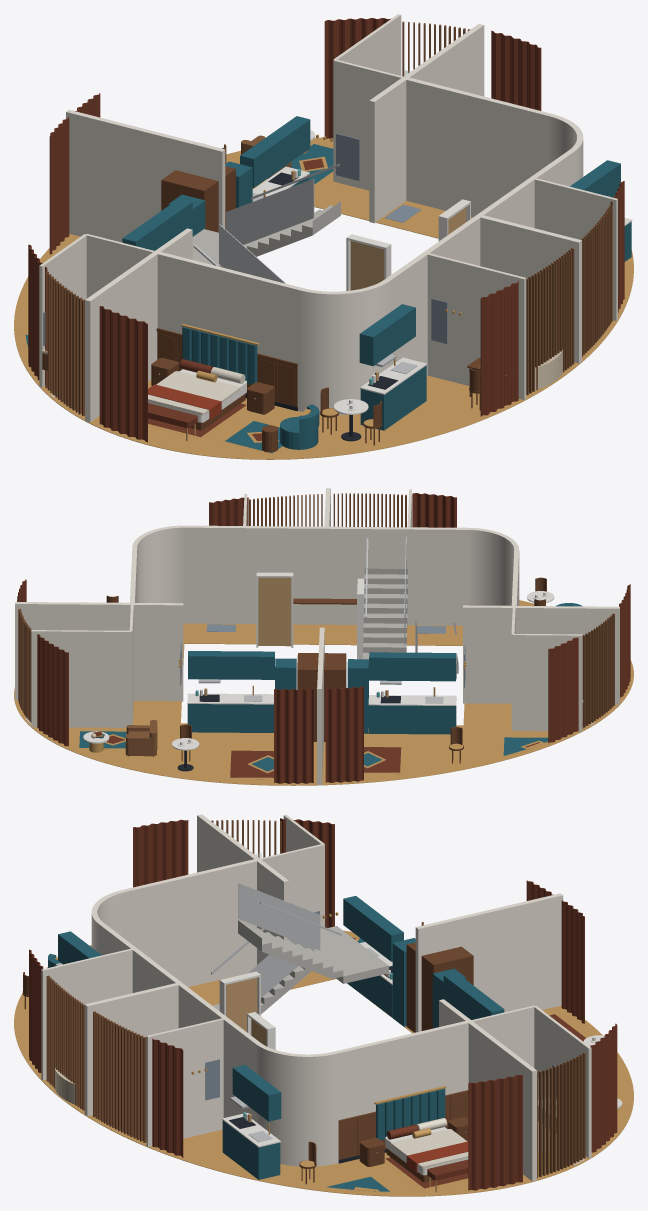
3 views of the same model, one above another, from view 1: azimuth 30°, elevation 25°; view 2: azimuth 150°, elevation 25°; view 3: azimuth 270°, elevation 25° (orthographic). The views are drawn at different scales.
Visible parts, largest first — view 1: Walls, Furniture, Generic models, Floors, Casework, Railings, Doors, Stairs, Specialty equipment, Plumbing fixtures; view 2: Walls, Furniture, Floors, Casework, Generic models, Stairs, Doors, Specialty equipment, Railings; view 3: Walls, Furniture, Generic models, Casework, Floors, Stairs, Railings, Doors, Specialty equipment, Plumbing fixtures.
Boxes of the visible parts, <box> form: Walls: <box>39,14,617,422</box>; Furniture: <box>22,18,624,454</box>; Generic models: <box>43,21,612,416</box>; Floors: <box>14,137,633,459</box>; Casework: <box>42,116,632,430</box>; Railings: <box>193,163,339,283</box>; Doors: <box>346,199,470,290</box>; Stairs: <box>192,201,340,267</box>; Specialty equipment: <box>168,161,252,236</box>; Plumbing fixtures: <box>41,190,562,390</box>; Walls: <box>15,488,619,784</box>; Furniture: <box>17,493,630,783</box>; Floors: <box>14,600,633,785</box>; Casework: <box>187,651,582,741</box>; Generic models: <box>18,493,614,727</box>; Stairs: <box>363,568,458,677</box>; Doors: <box>256,572,364,659</box>; Specialty equipment: <box>275,658,368,733</box>; Railings: <box>365,536,456,652</box>; Walls: <box>41,814,591,1181</box>; Furniture: <box>22,818,622,1192</box>; Generic models: <box>46,819,585,1178</box>; Casework: <box>55,896,556,1179</box>; Floors: <box>14,930,633,1196</box>; Stairs: <box>212,920,388,1013</box>; Railings: <box>211,883,341,997</box>; Doors: <box>219,971,275,1049</box>; Specialty equipment: <box>392,938,465,1028</box>; Plumbing fixtures: <box>55,948,556,1142</box>.
Bounding box in the file's own units: 15.6 × 4.03 × 14.95.
